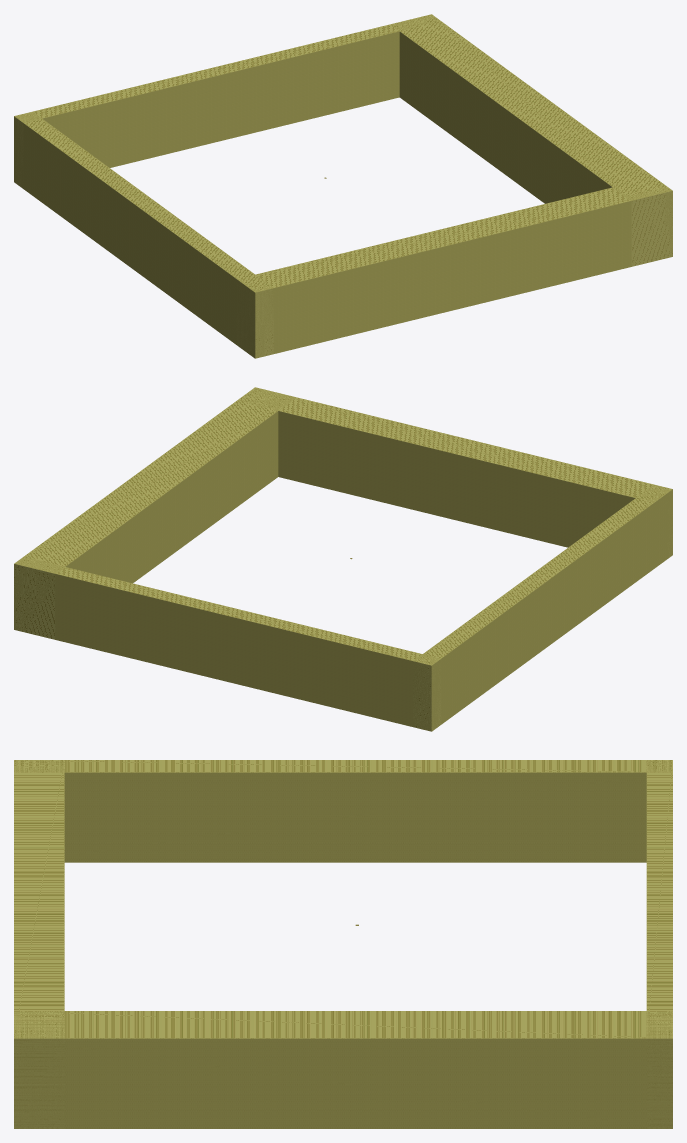
The model's file is border.obj.
3 renders of one model, top to bottom at view 1: azimuth 30°, elevation 25°; view 2: azimuth 150°, elevation 25°; view 3: azimuth 270°, elevation 25°, orthographic. The views are drawn at different scales.
Visible parts, largest first — view 1: Object_29.002, Object_29.003, Object_29.001, Object_29; view 2: Object_29.003, Object_29.002, Object_29.001, Object_29; view 3: Object_29.001, Object_29, Object_29.002, Object_29.003.
Part boxes in pixels (<box>): Object_29.002: <box>236,187,672,358</box>; Object_29.003: <box>14,14,435,186</box>; Object_29.001: <box>390,14,672,266</box>; Object_29: <box>14,111,273,358</box>; Object_29.003: <box>14,557,441,731</box>; Object_29.002: <box>239,387,672,556</box>; Object_29.001: <box>14,387,296,639</box>; Object_29: <box>413,484,672,731</box>; Object_29.001: <box>14,1011,672,1128</box>; Object_29: <box>14,760,672,862</box>; Object_29.002: <box>14,760,64,1128</box>; Object_29.003: <box>646,760,672,1128</box>.
Bounding box in the file's own units: 406 × 61.36 × 406.
Materials: 3 (3 with a texture image).
